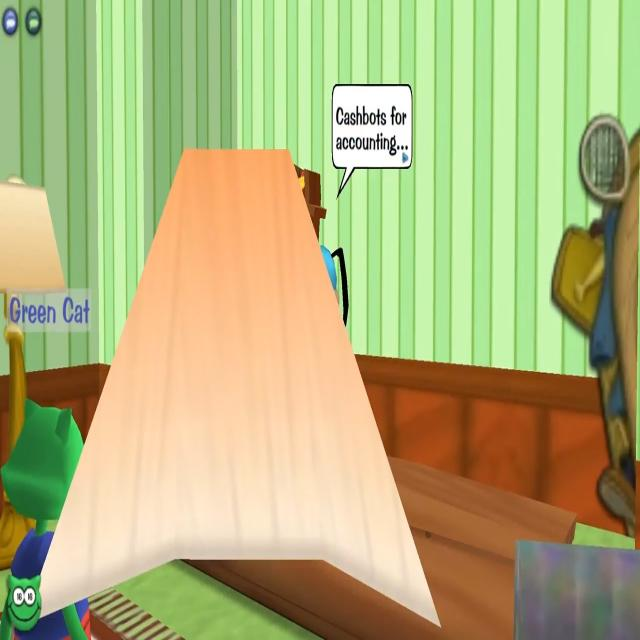npc: (302, 233, 354, 354)
